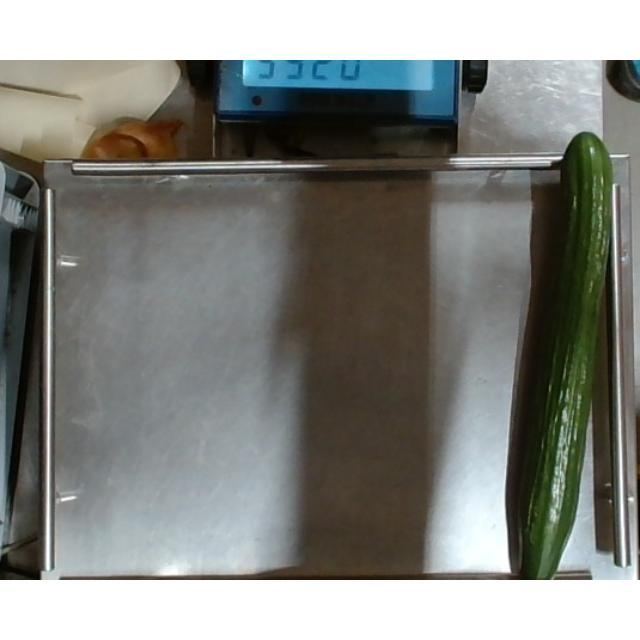cucumber: (507, 132, 613, 580)
